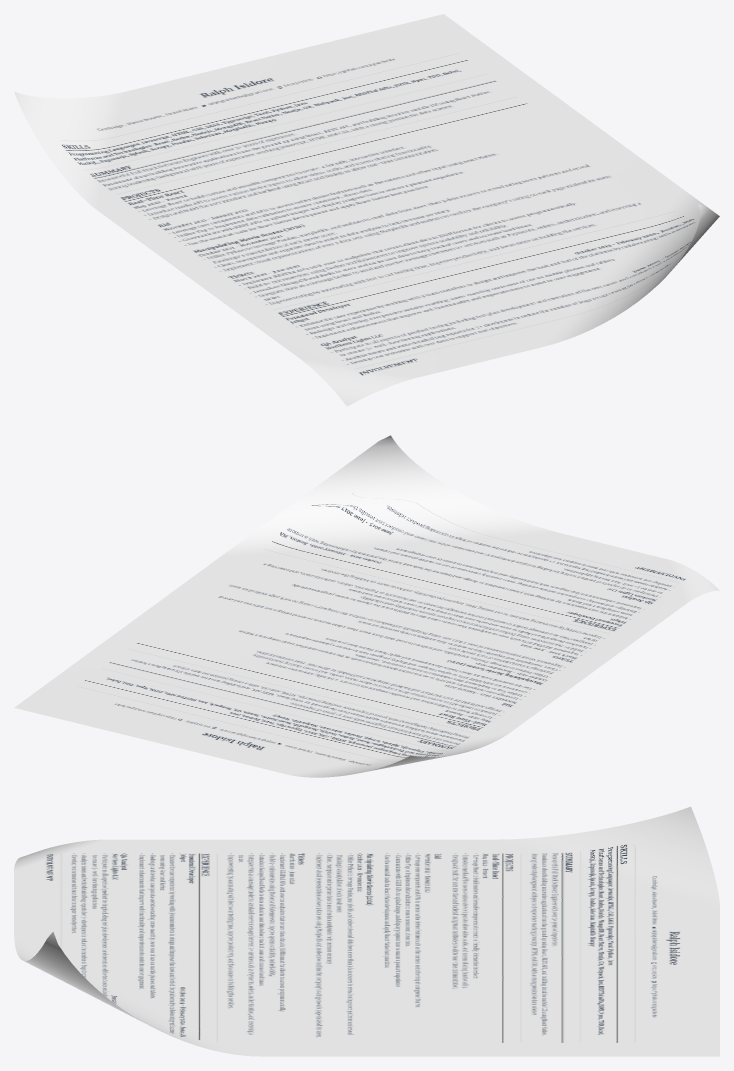
Rendered from resumeSheet.glb.
3 renders of one model, top to bottom at view 1: azimuth 30°, elevation 25°; view 2: azimuth 150°, elevation 25°; view 3: azimuth 270°, elevation 25°, orthographic. The views are drawn at different scales.
Visible parts, largest first — view 1: Plane; view 2: Plane; view 3: Plane.
Boxes of the visible parts, x1,y1,x2,y2 form: Plane: (14,14,719,406); Plane: (14,435,719,777); Plane: (14,806,719,1056).
Size of the model in its own units: 2 by 0.424 by 2.75.
1 material, 1 textured.
